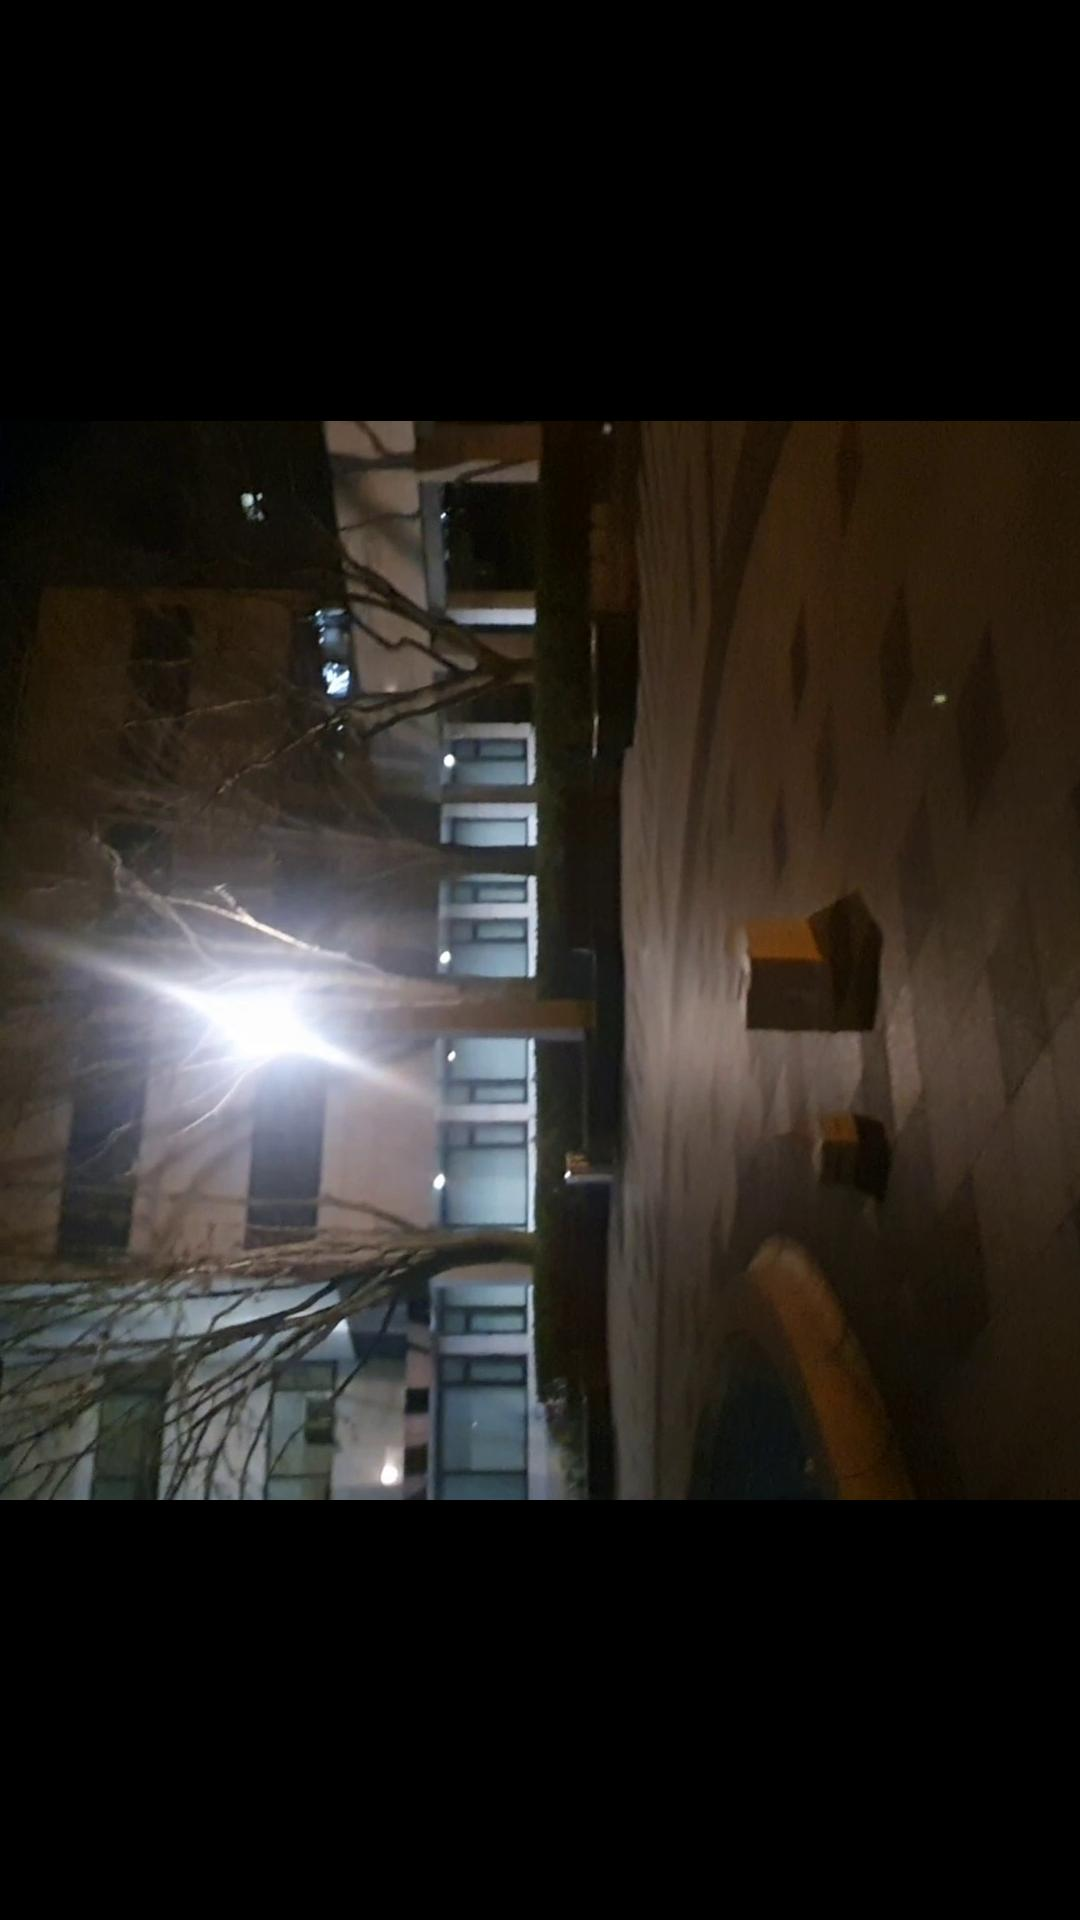Box: (717, 910, 853, 1039), (804, 1110, 866, 1189)
